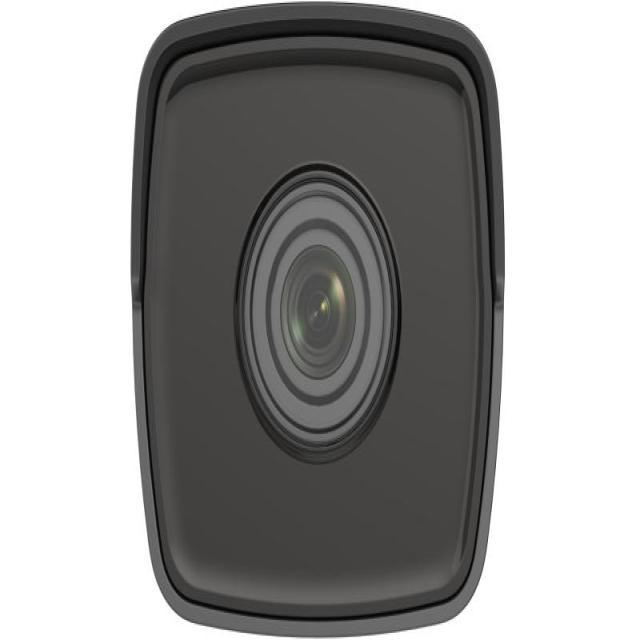hidden camera: (235, 150, 406, 480)
